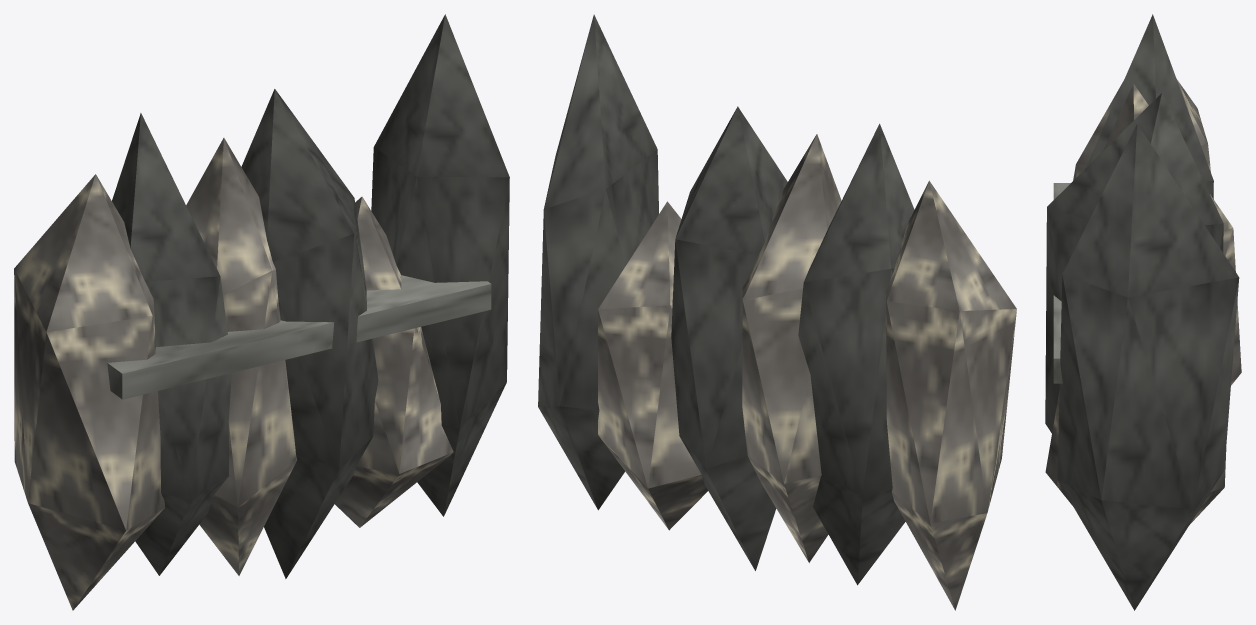
File: SM_Cliff_Face02_LOD1.fbx
The picture shows the model from 3 angles, left to right: view 1: azimuth 30°, elevation 25°; view 2: azimuth 150°, elevation 25°; view 3: azimuth 270°, elevation 25°; orthographic projection. The views are drawn at different scales.
Parts seen in each view (by area): view 1: SM_Cliff_Face02_LOD1; view 2: SM_Cliff_Face02_LOD1; view 3: SM_Cliff_Face02_LOD1.
Boxes of the visible parts, x1,y1,x2,y2 form: SM_Cliff_Face02_LOD1: (14,14,509,610); SM_Cliff_Face02_LOD1: (538,14,1016,610); SM_Cliff_Face02_LOD1: (1045,14,1241,610).
Bounding box in the file's own units: 22.27 × 24.47 × 8.51.
1 material, 1 textured.
